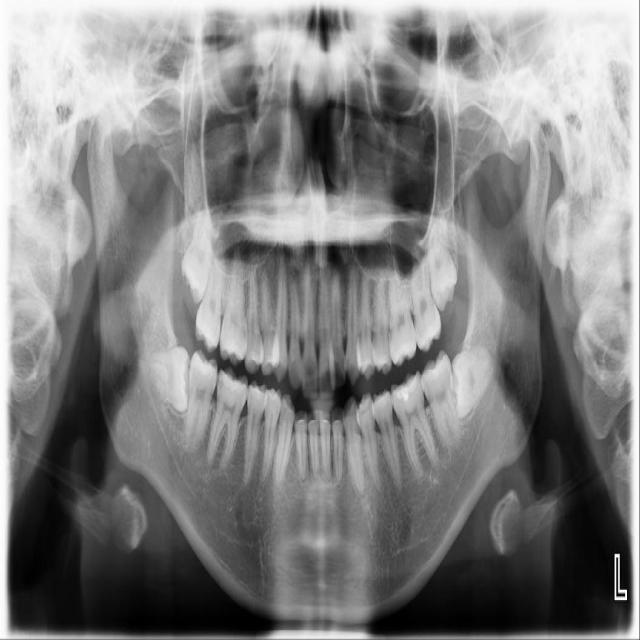3M ESPE Implant: (177, 207, 217, 305)
52: (380, 367, 433, 417)
73: (614, 570, 620, 578)
BioHorizons Implant: (407, 242, 444, 353)
BioLife Implant: (421, 200, 461, 312)
Blue Sky Bio Implant: (416, 347, 464, 450)
Caries: (192, 232, 227, 353)
Implant: (180, 347, 222, 453)
Keystone Dental Implant: (147, 344, 195, 415)
